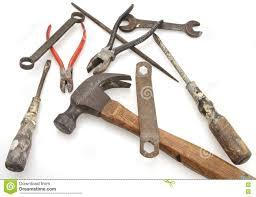hammer: (51, 70, 255, 180)
